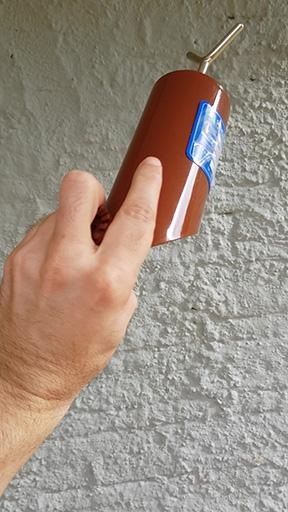Detector_Tensao_Contato: (94, 22, 246, 248)
